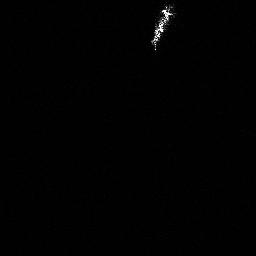ship: (147, 4, 175, 50)
